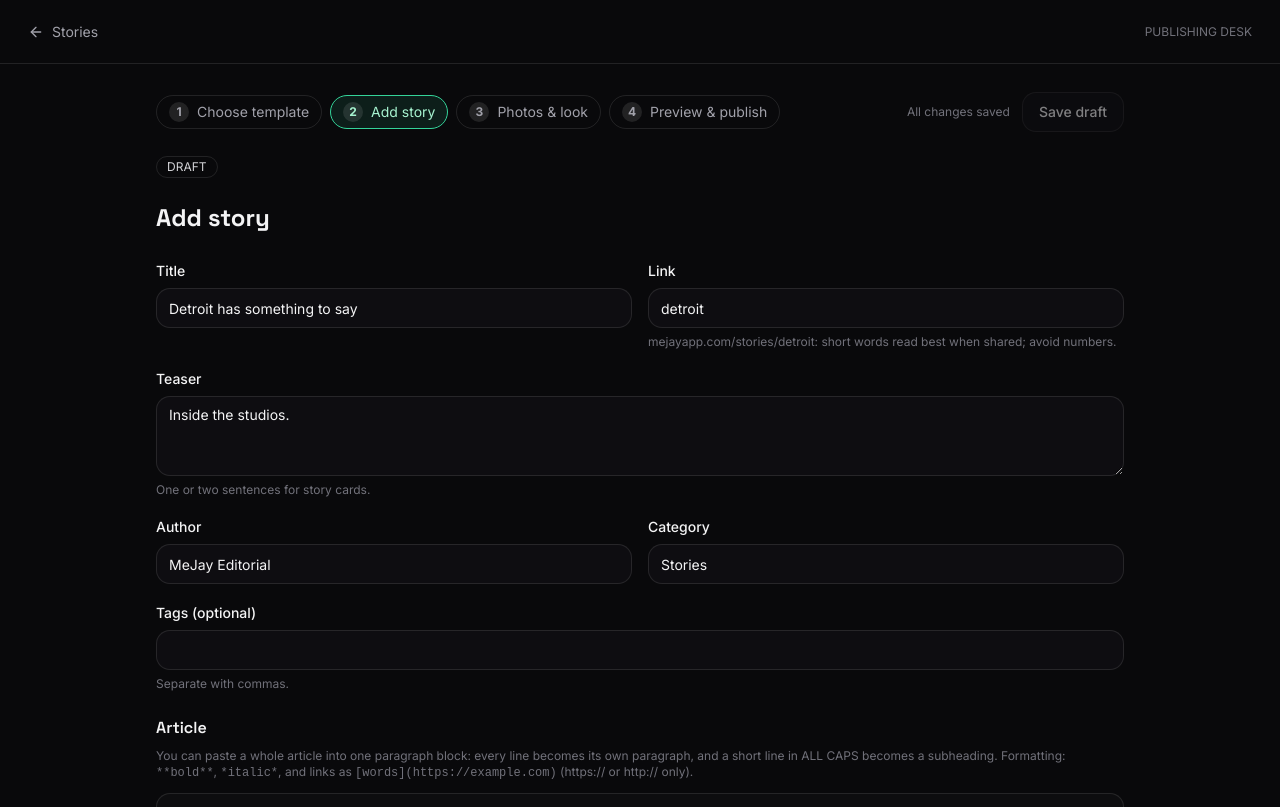
Test: story wizard › saves a draft at any step, and keeps what was typed when the save fails
Replace the text in the field labelled "Title" with "A new headline": (394, 308) [156,288,632,328]
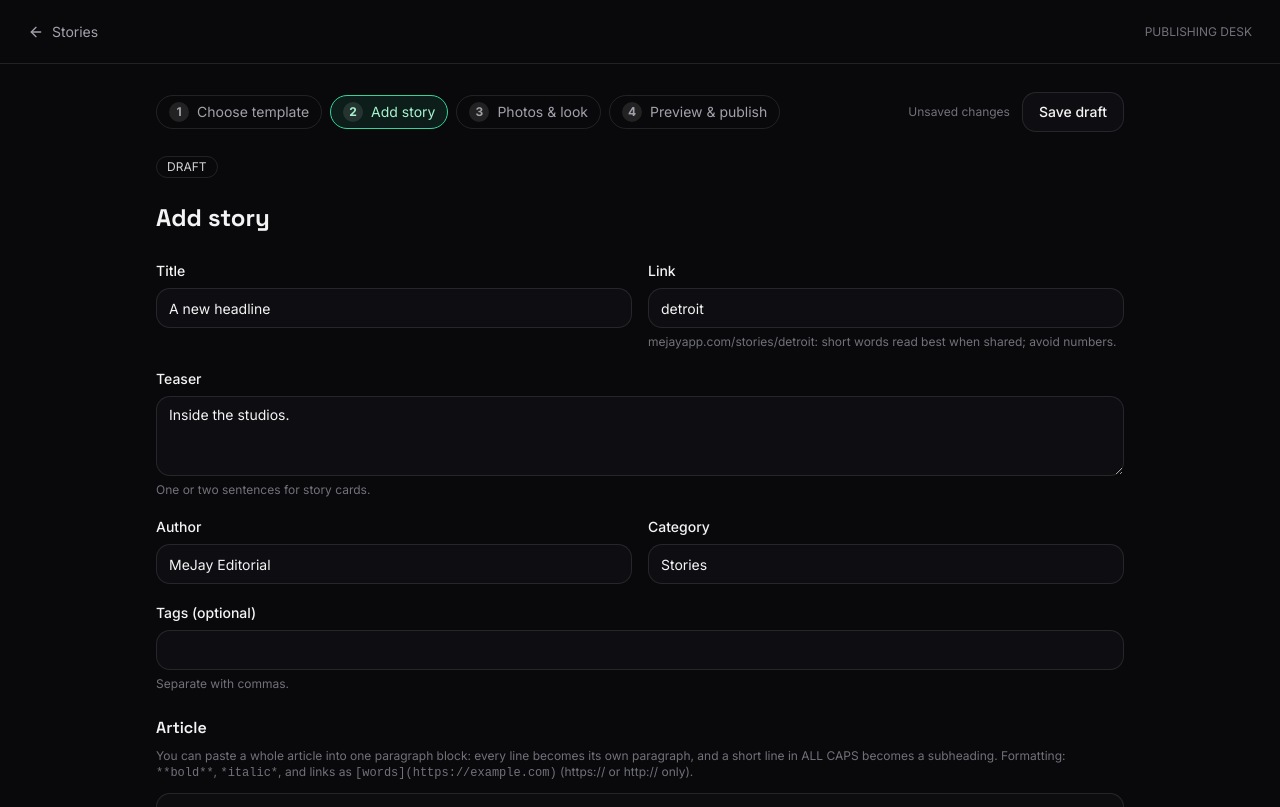
Now the text "Unsaved changes" is shown, box [908,104,1010,120]
Click the button "Save draft": click(1073, 112) [1022,92,1124,132]
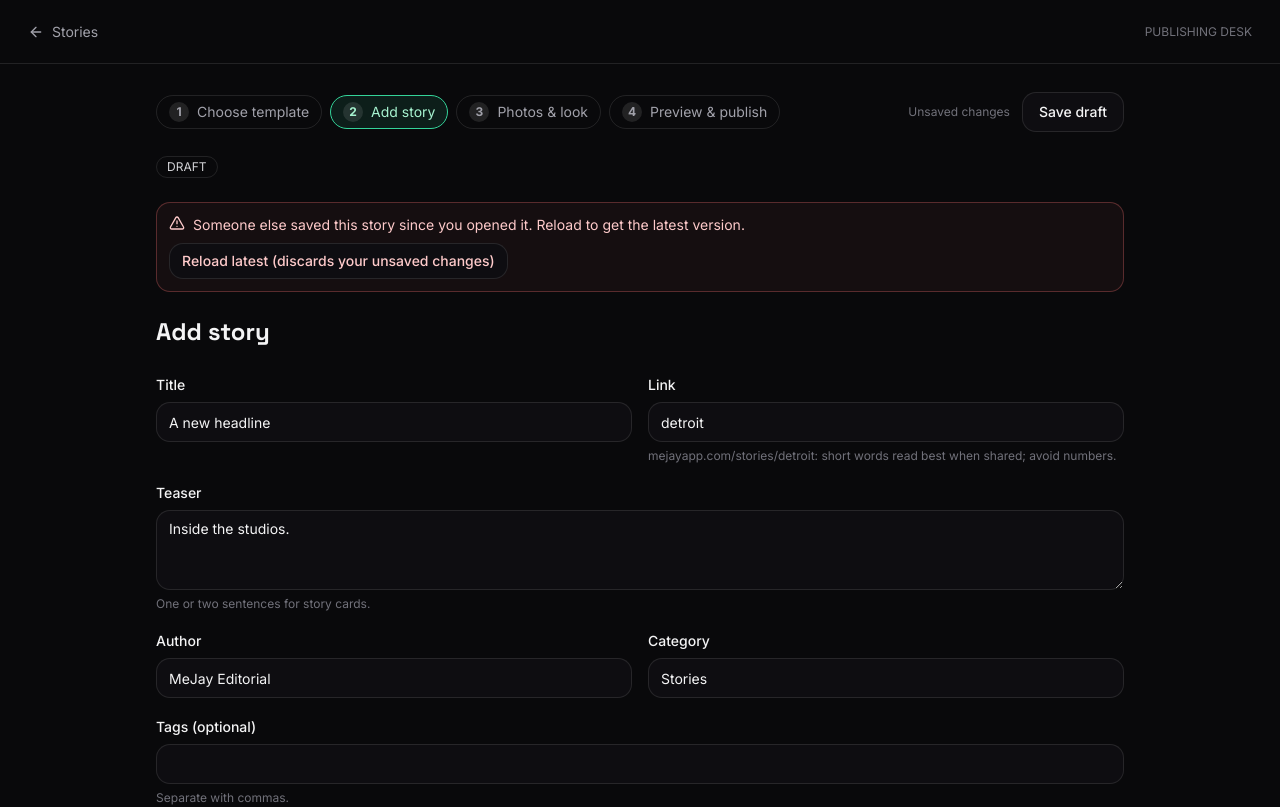
Now the message shows "Someone else saved this story", box [193,216,745,233]
Now the button "Reload latest (discards your unsaved changes)" is shown, box [169,243,508,279]
Click the button "Save draft": click(1073, 112) [1022,92,1124,132]
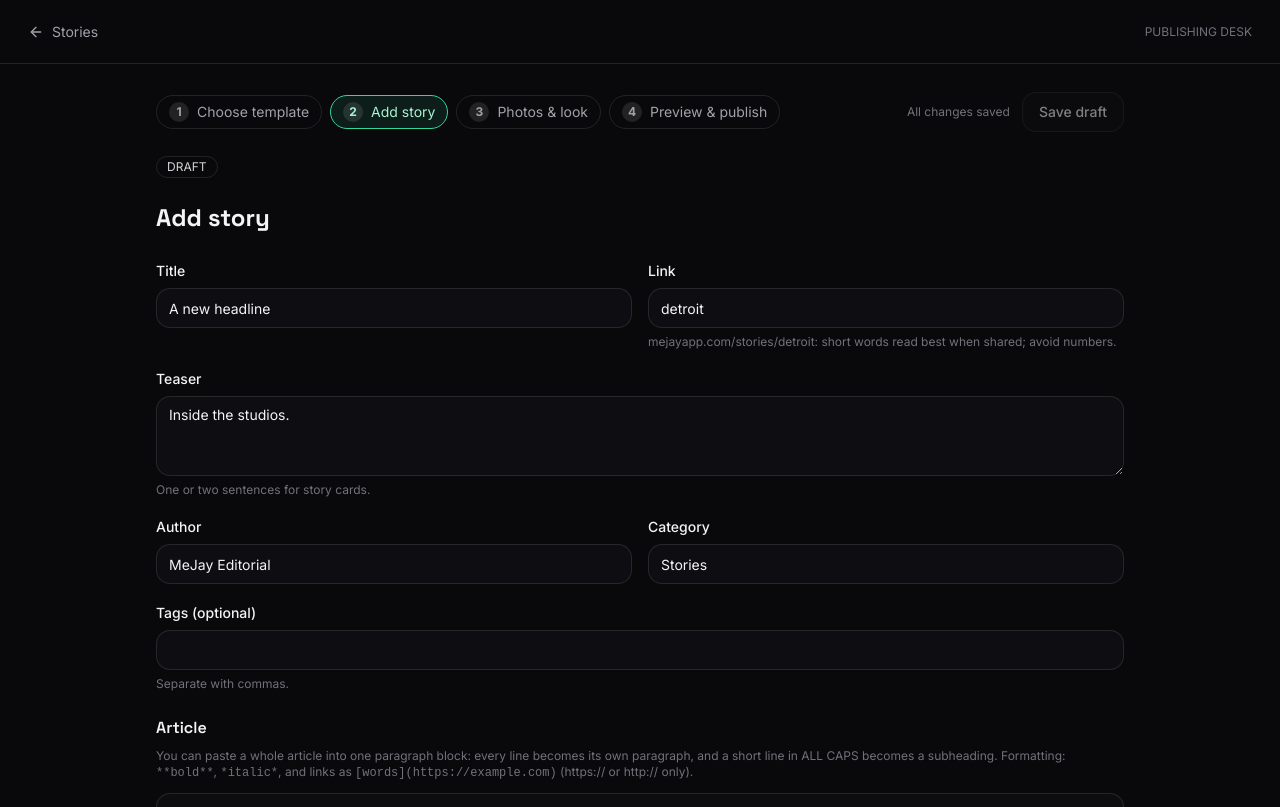
Now the text "All changes saved" is shown, box [907,104,1010,120]
